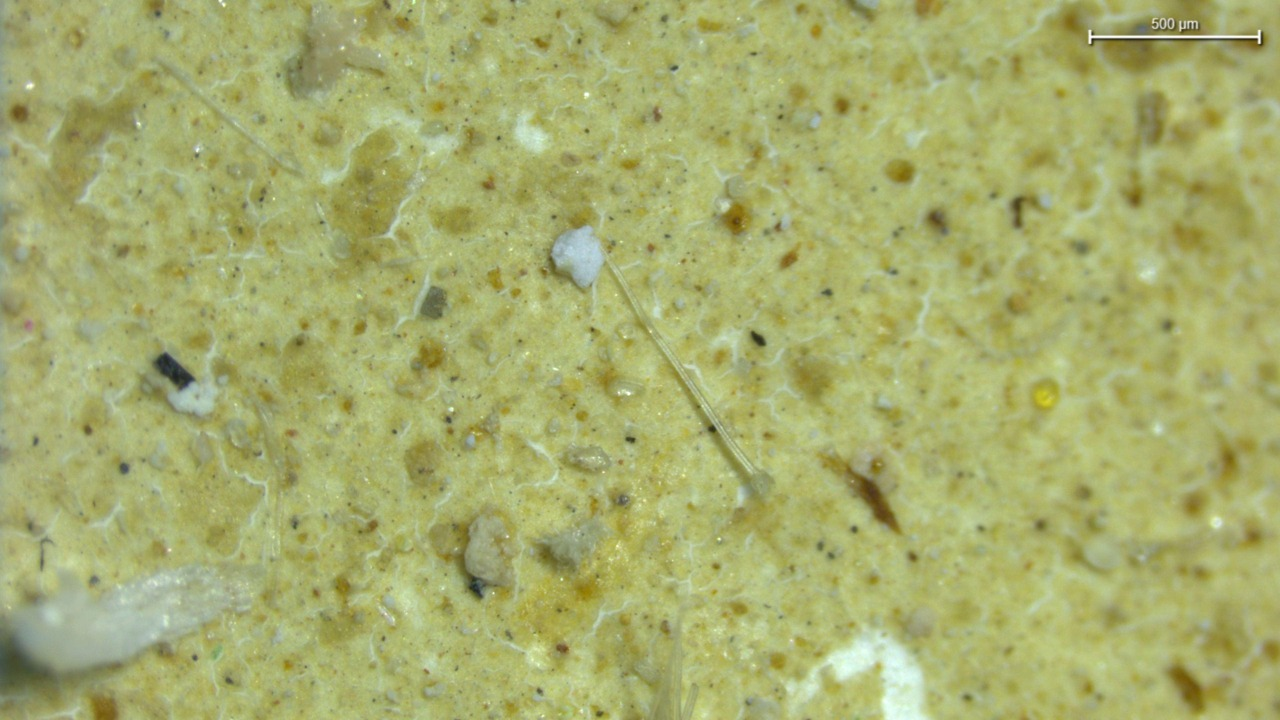microplastic_fragment: (464, 513, 519, 587), (550, 225, 604, 288), (167, 380, 219, 416)
